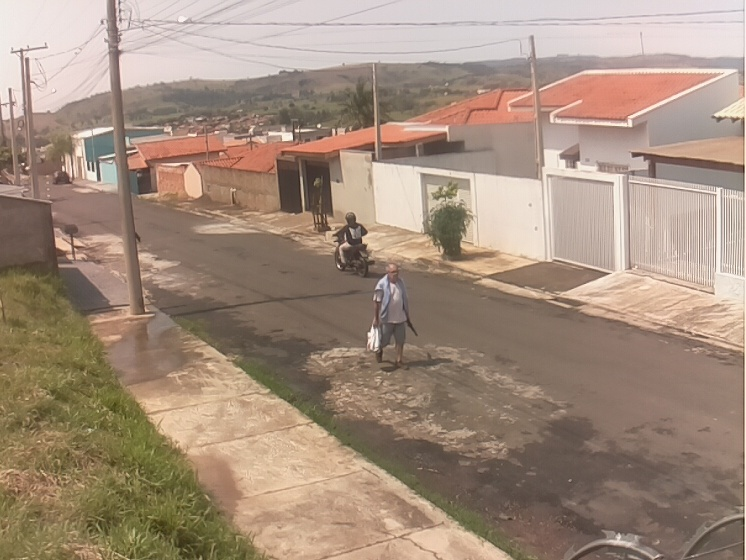person: (371, 264, 411, 370), (335, 211, 365, 268)
